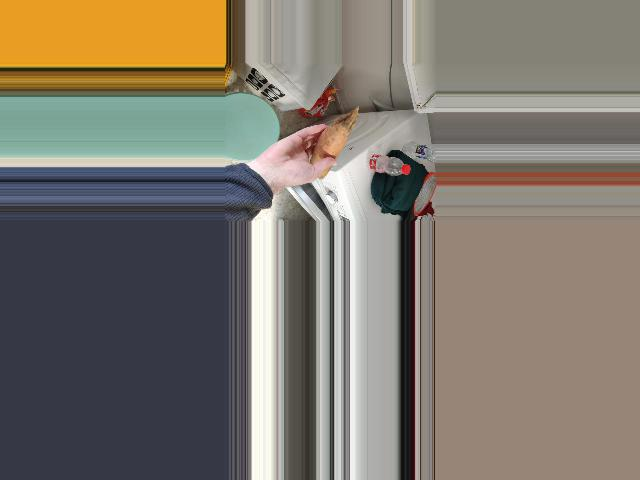sweet_potato: (304, 126, 349, 172)
